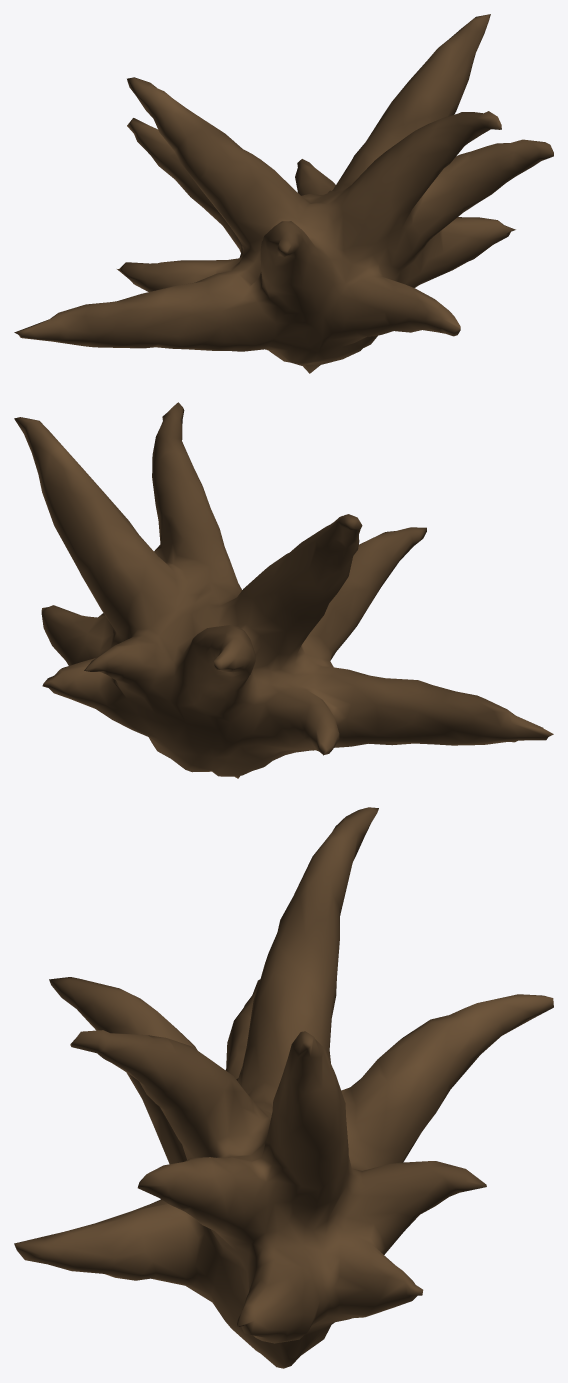
File: mopani-mobile.glb
The picture shows the model from 3 angles, top to bottom: view 1: azimuth 30°, elevation 25°; view 2: azimuth 150°, elevation 25°; view 3: azimuth 270°, elevation 25°; orthographic projection. The views are drawn at different scales.
Visible parts, largest first — view 1: mopani; view 2: mopani; view 3: mopani.
Part boxes in pixels (x1,y1,x2,y2): mopani: (14,14,553,373); mopani: (14,402,553,778); mopani: (14,807,553,1368).
Size of the model in its own units: 1.24 by 0.729 by 0.8206.
